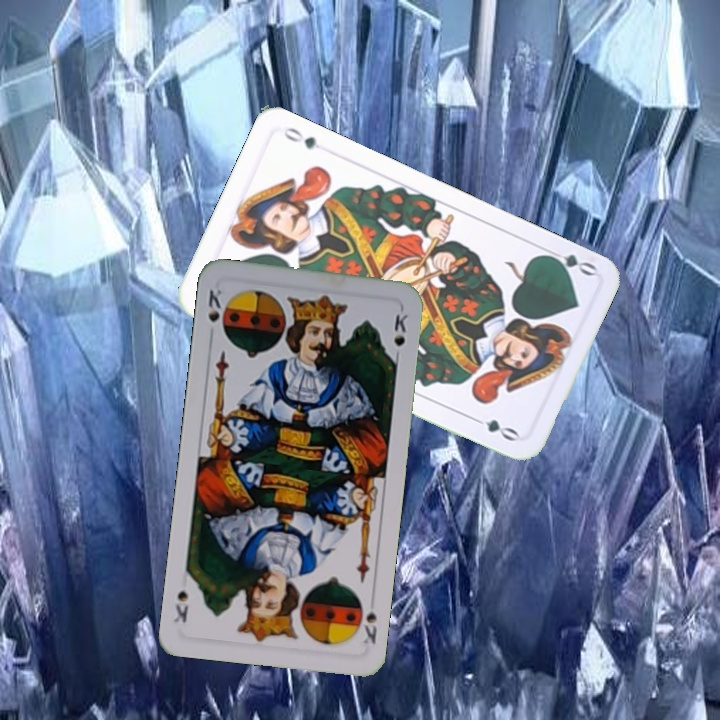GO: (540, 244, 599, 279)
SK: (359, 592, 380, 647), (204, 285, 228, 325)
